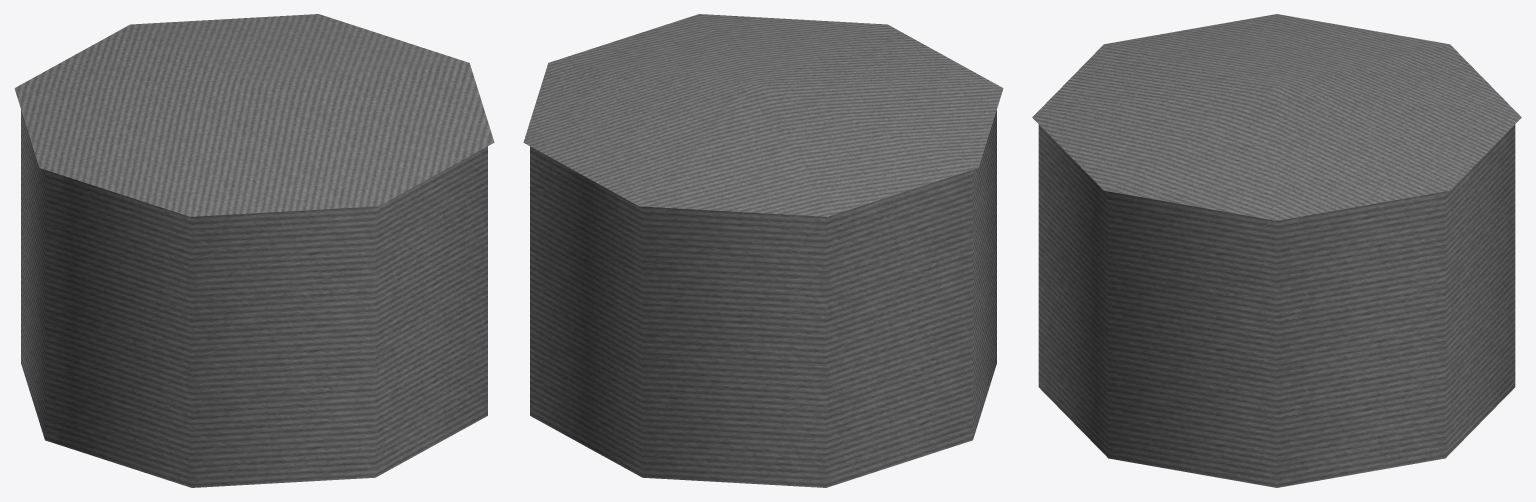
Rendered from water-tank-corrigated-8x3-cbj_LOD03.gltf.
The picture shows the model from 3 angles, left to right: view 1: azimuth 30°, elevation 25°; view 2: azimuth 150°, elevation 25°; view 3: azimuth 270°, elevation 25°; orthographic projection.
Parts seen in each view (by area): view 1: tank03; view 2: tank03; view 3: tank03.
Part boxes in pixels (x1,y1,x2,y2): tank03: [14, 14, 494, 487]; tank03: [523, 14, 1003, 487]; tank03: [1032, 14, 1521, 487].
Bounding box in the file's own units: 8.22 × 5.54 × 8.22.
